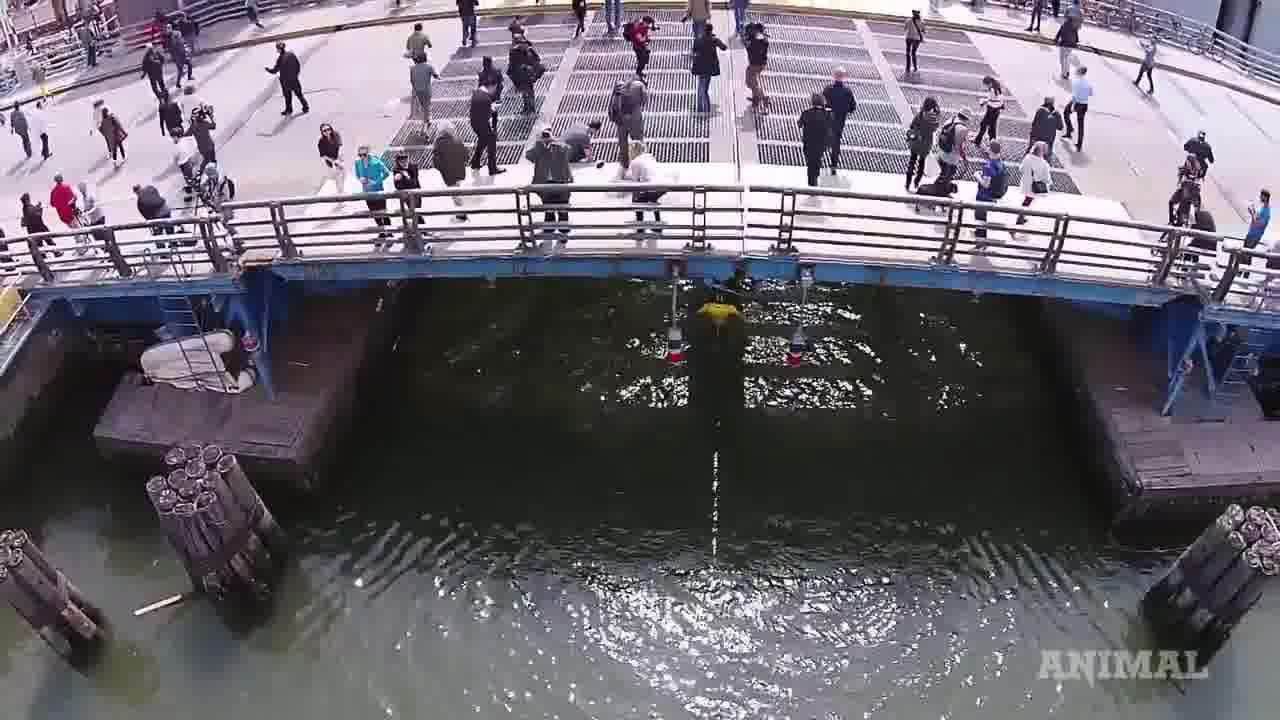human: (688, 294, 753, 338)
